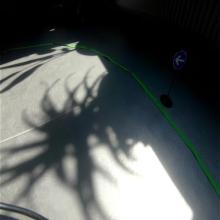left: (172, 49, 186, 71)
